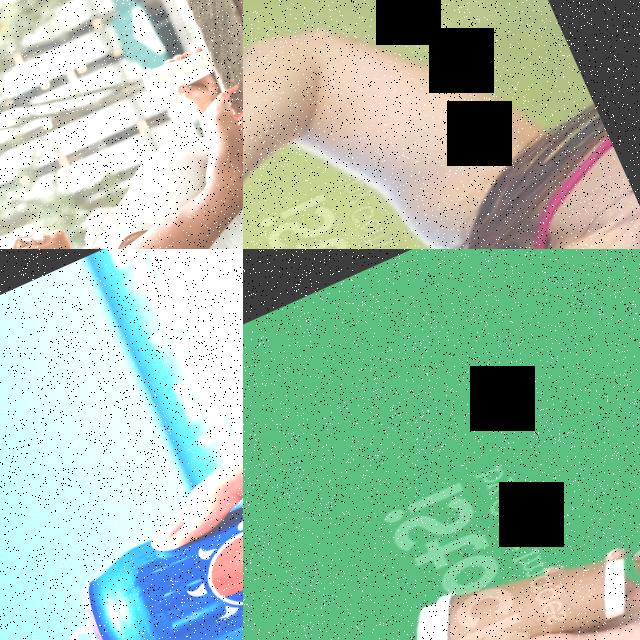can: (64, 400, 243, 640)
cup: (391, 517, 640, 640), (137, 43, 217, 105)
